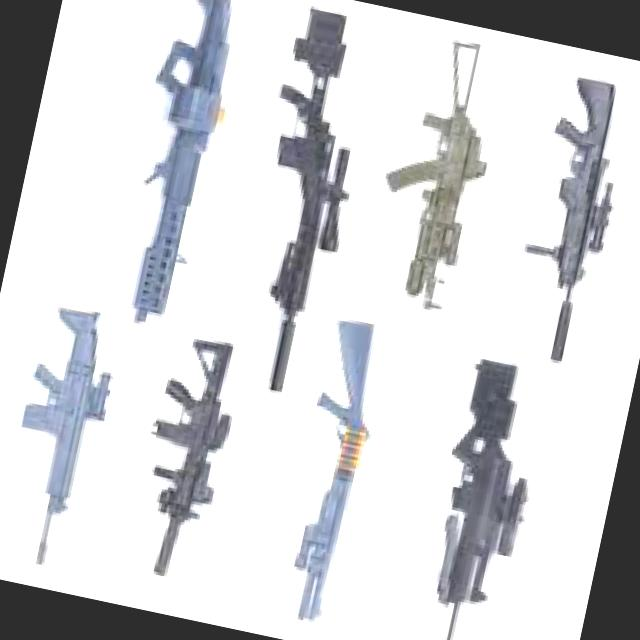long weapon: (207, 0, 389, 410), (80, 0, 269, 323), (385, 347, 562, 639), (262, 316, 413, 636), (492, 64, 639, 373), (0, 296, 146, 581), (374, 30, 508, 316), (128, 324, 255, 596)
